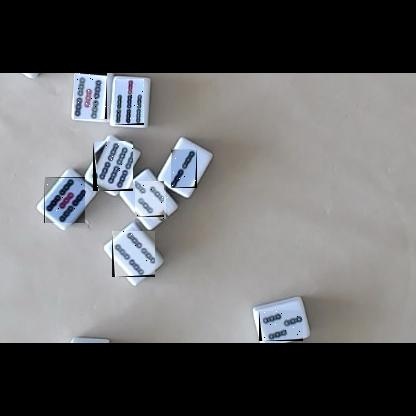2s: (171, 149, 197, 188)
3s: (259, 310, 303, 341), (136, 182, 169, 222)
4s: (112, 231, 155, 277)
5s: (44, 177, 85, 223), (74, 73, 107, 119)
6s: (93, 141, 133, 191)
7s: (114, 79, 144, 125)
